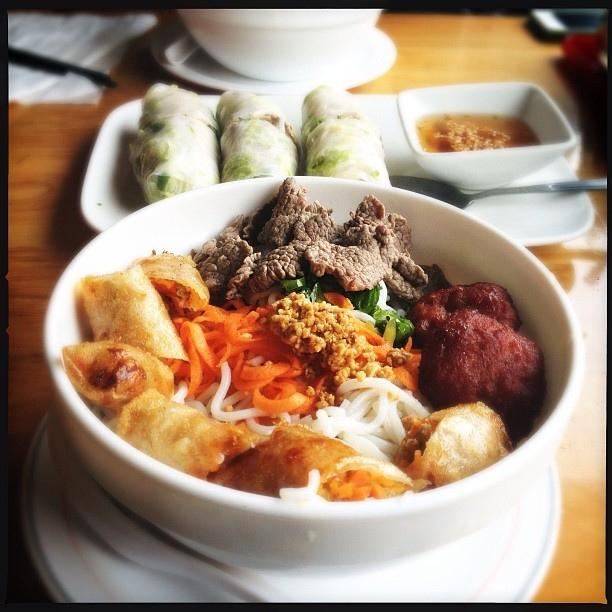carrot: (179, 320, 221, 401), (215, 342, 302, 371), (232, 352, 276, 390), (204, 311, 260, 340), (224, 313, 268, 346), (252, 388, 309, 413), (239, 361, 292, 382), (321, 292, 355, 312), (288, 394, 318, 414), (357, 325, 386, 345), (405, 354, 422, 386), (251, 318, 267, 335), (174, 363, 191, 378), (220, 300, 245, 310), (210, 339, 226, 354), (404, 336, 412, 352), (172, 318, 192, 324), (206, 326, 215, 332)
